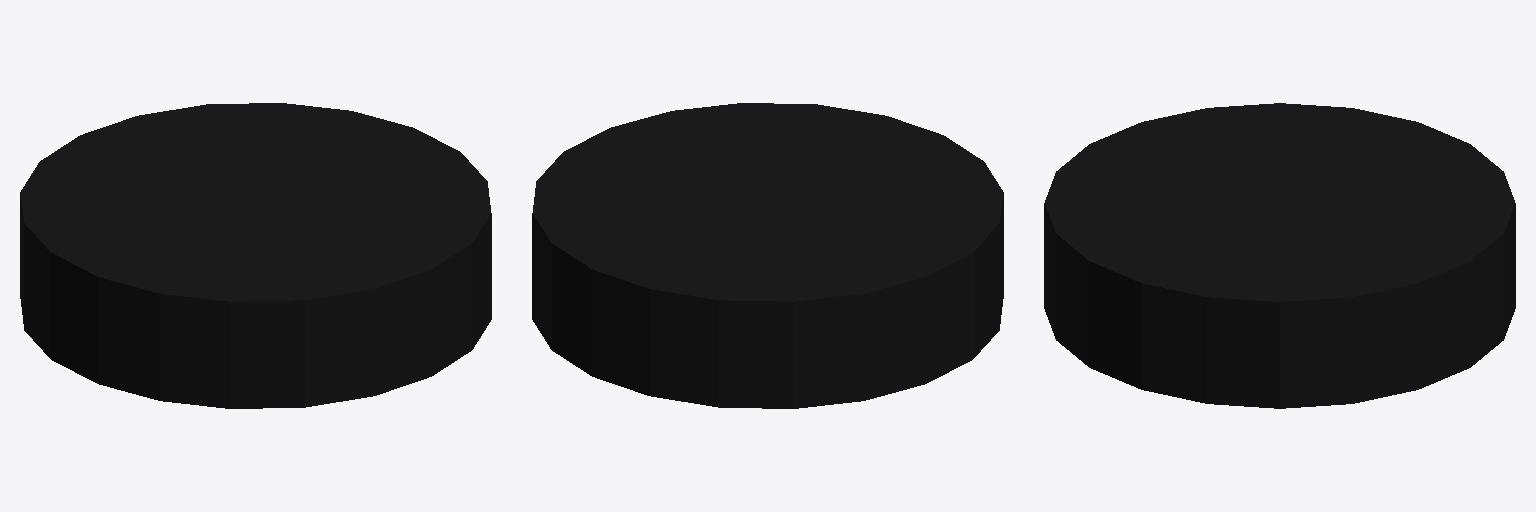
robot.urdf — omni_wheel:
<?xml version="1.0"?>
<!--
  urdf/base/wheel.urdf
  Standalone single omni-wheel link.
  Used as a reference / sub-assembly.
  Actual wheels are inlined in base.urdf as child links.

  Geometry:
    radius  = 0.06 m
    width   = 0.03 m
    mass    = 0.50 kg
    axis    = Y  (wheel rolls along X, steers around Z)
-->
<robot name="omni_wheel">

  <link name="wheel_link">
    <inertial>
      <mass value="0.5"/>
      <origin xyz="0 0 0" rpy="0 0 0"/>
      <!-- Solid cylinder I_axial = 0.5*m*r^2, I_radial = m*(3r^2+l^2)/12 -->
      <inertia ixx="0.000477" ixy="0" ixz="0"
               iyy="0.000900" iyz="0"
               izz="0.000477"/>
    </inertial>

    <!-- Visual: mesh when available, cylinder fallback -->
    <visual>
      <origin xyz="0 0 0" rpy="1.5708 0 0"/>
      <geometry>
        <mesh filename="../../assets/meshes/omni_wheel.obj" scale="1 1 1"/>
      </geometry>
      <material name="rubber_black">
        <color rgba="0.12 0.12 0.12 1.0"/>
      </material>
    </visual>

    <!-- Collision: cylinder (simpler, faster) -->
    <collision>
      <origin xyz="0 0 0" rpy="1.5708 0 0"/>
      <geometry>
        <cylinder radius="0.06" length="0.03"/>
      </geometry>
    </collision>
  </link>

</robot>

--- What the picture shows (computed from the rendered views, not written in the file) ---
The picture shows the robot from 3 angles, left to right: view 1: azimuth 30°, elevation 25°; view 2: azimuth 150°, elevation 25°; view 3: azimuth 270°, elevation 25°; orthographic projection.
Model omni_wheel with 1 links and 0 joints (none), rooted at wheel_link, posed every joint at zero.
Links seen in each view (by area): view 1: wheel_link; view 2: wheel_link; view 3: wheel_link.
Boxes of the visible links, <box> form: wheel_link: <box>20,103,491,408</box>; wheel_link: <box>532,103,1003,408</box>; wheel_link: <box>1044,103,1515,408</box>.
Bounding box of the posed robot: 0.12 × 0.12 × 0.03 m (x, y, z).
1 mesh visuals loaded from 1 distinct referenced files (1 OBJ).
